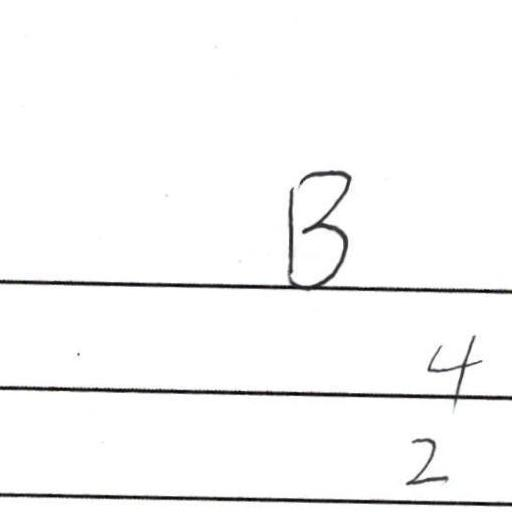ans: (276, 162, 354, 291), (419, 329, 483, 407), (398, 429, 448, 486)
